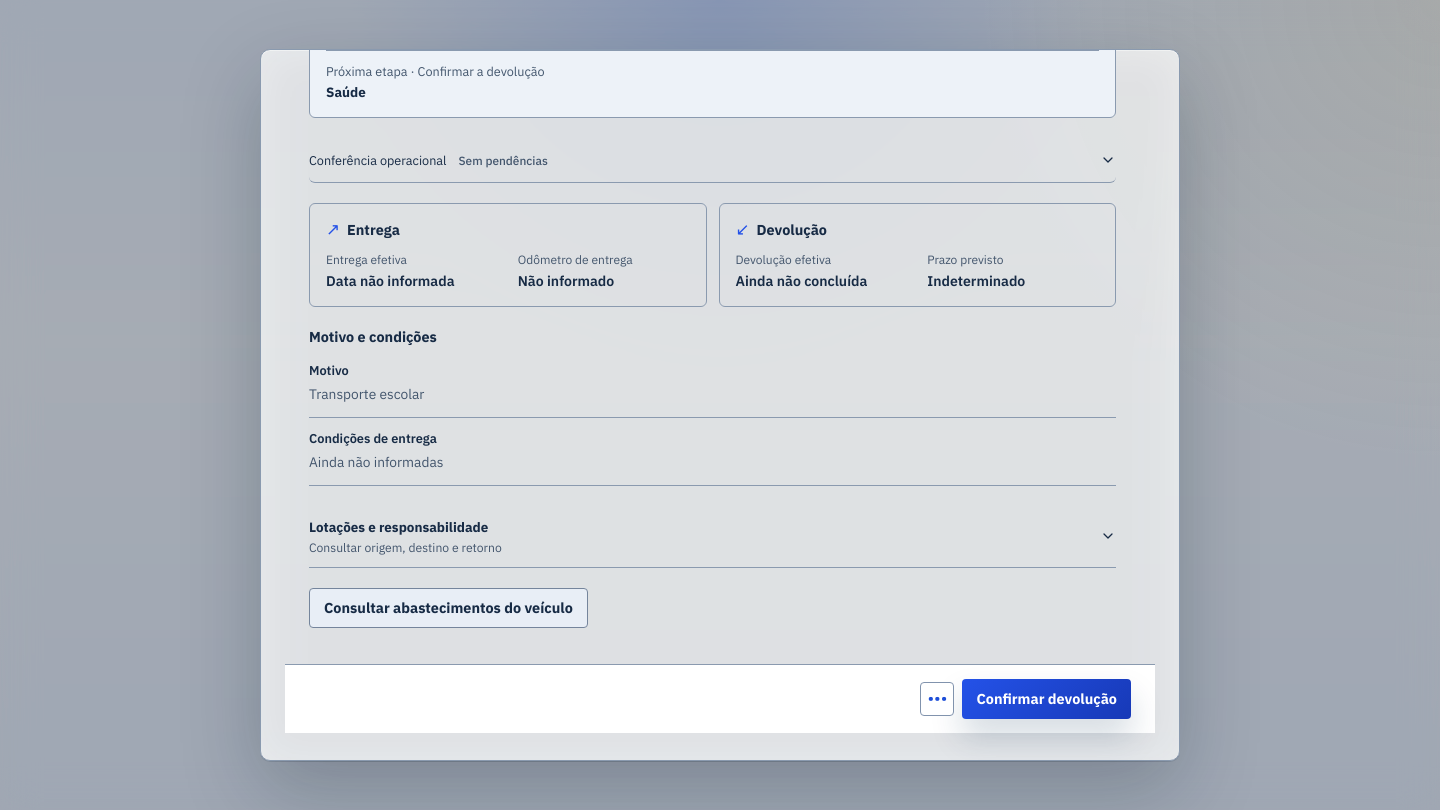
it: mantém a ação principal de AWAITING_RETURN_RECEIPT no rodapé e as demais no menu
(page scrolled)
Expected: the footer "Confirmar devolução" is shown, 285,664 -> 1155,733
Click the button "Confirmar devolução".
click(1047, 699)  # box 962,679 -> 1131,719
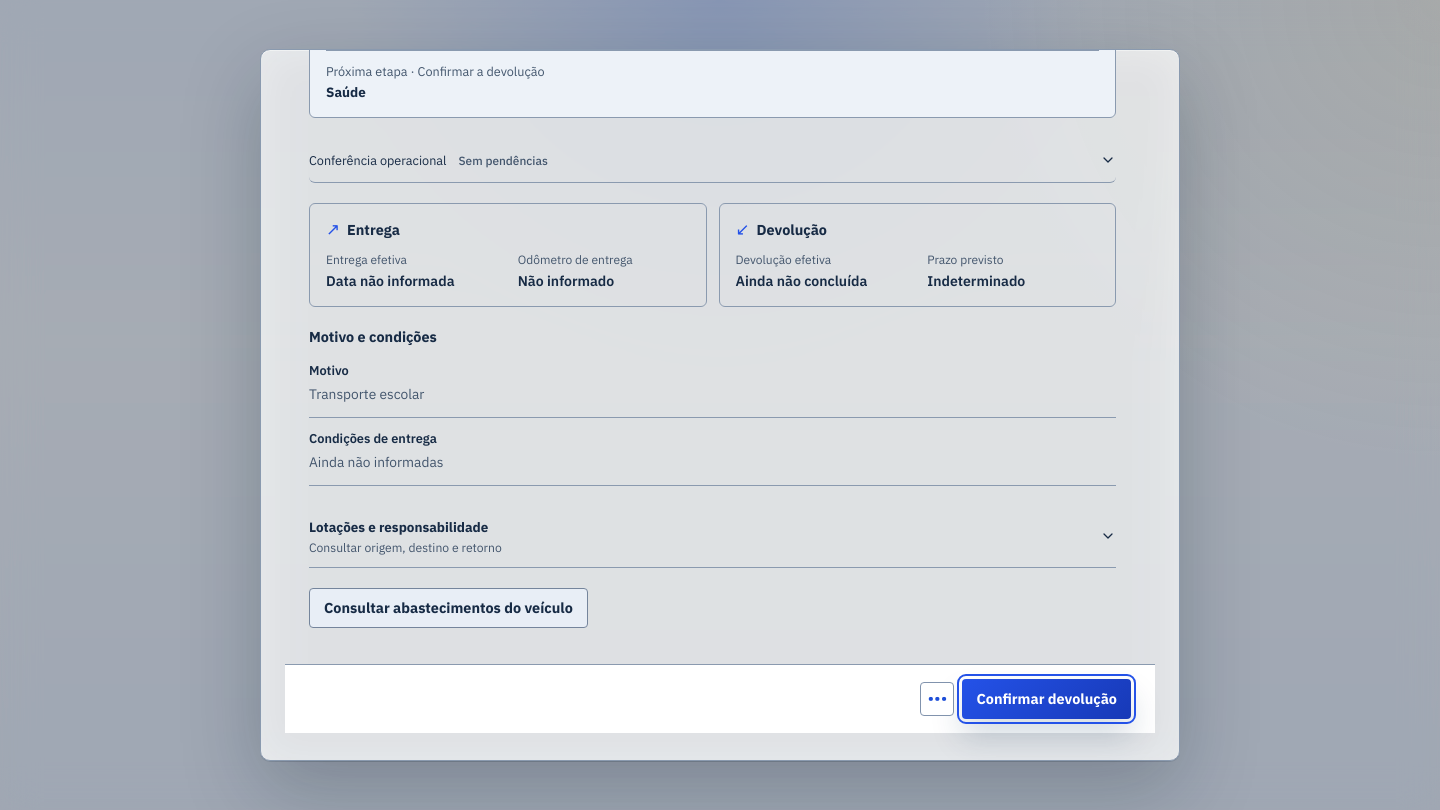
Click the button named "Mais ações do empréstimo de ABC1234".
click(937, 699)  # box 920,682 -> 954,716
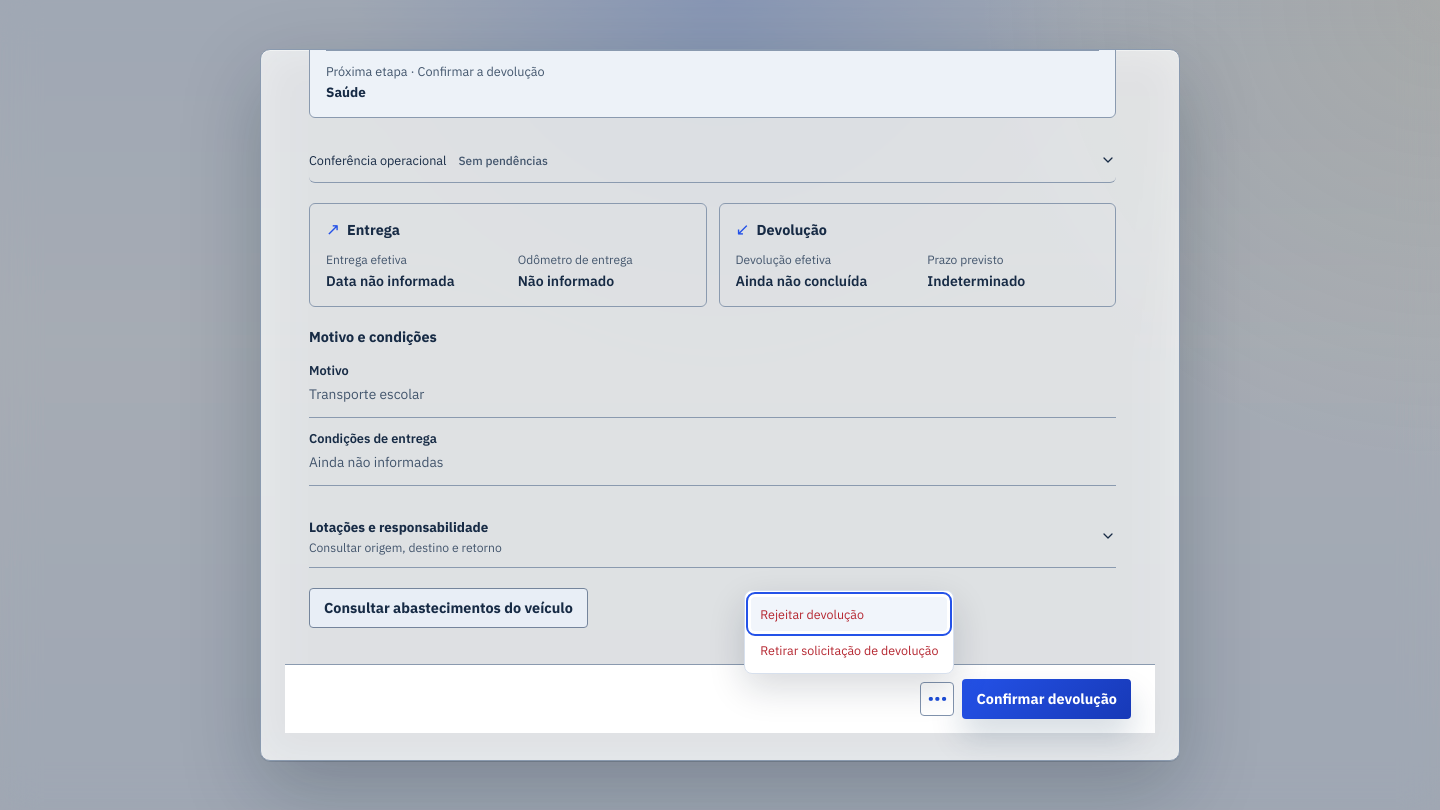
Expected: the menu item "Rejeitar devolução" is enabled, 751,597 -> 947,631
